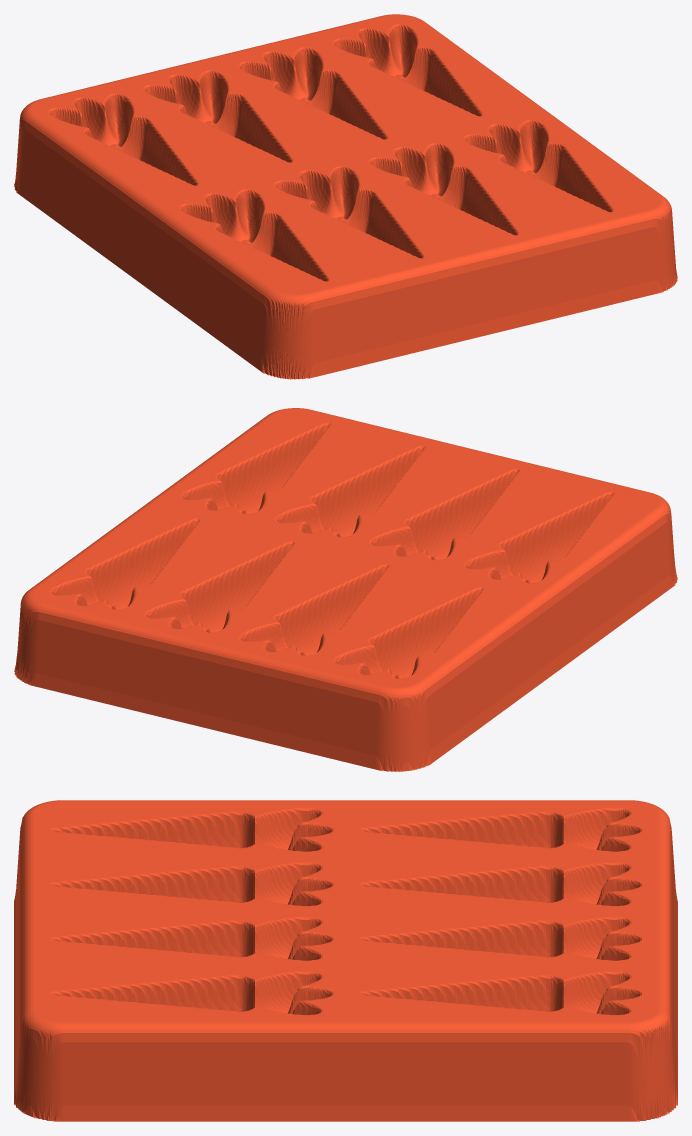
The model's file is mold.glb.
3 views of the same model, one above another, from view 1: azimuth 30°, elevation 25°; view 2: azimuth 150°, elevation 25°; view 3: azimuth 270°, elevation 25° (orthographic). The views are drawn at different scales.
Parts seen in each view (by area): view 1: geometry_0; view 2: geometry_0; view 3: geometry_0.
Part boxes in pixels (<box>): geometry_0: <box>14,14,677,379</box>; geometry_0: <box>14,408,677,771</box>; geometry_0: <box>14,800,677,1121</box>.
Bounding box in the file's own units: 0.1035 × 0.0185 × 0.1222.
